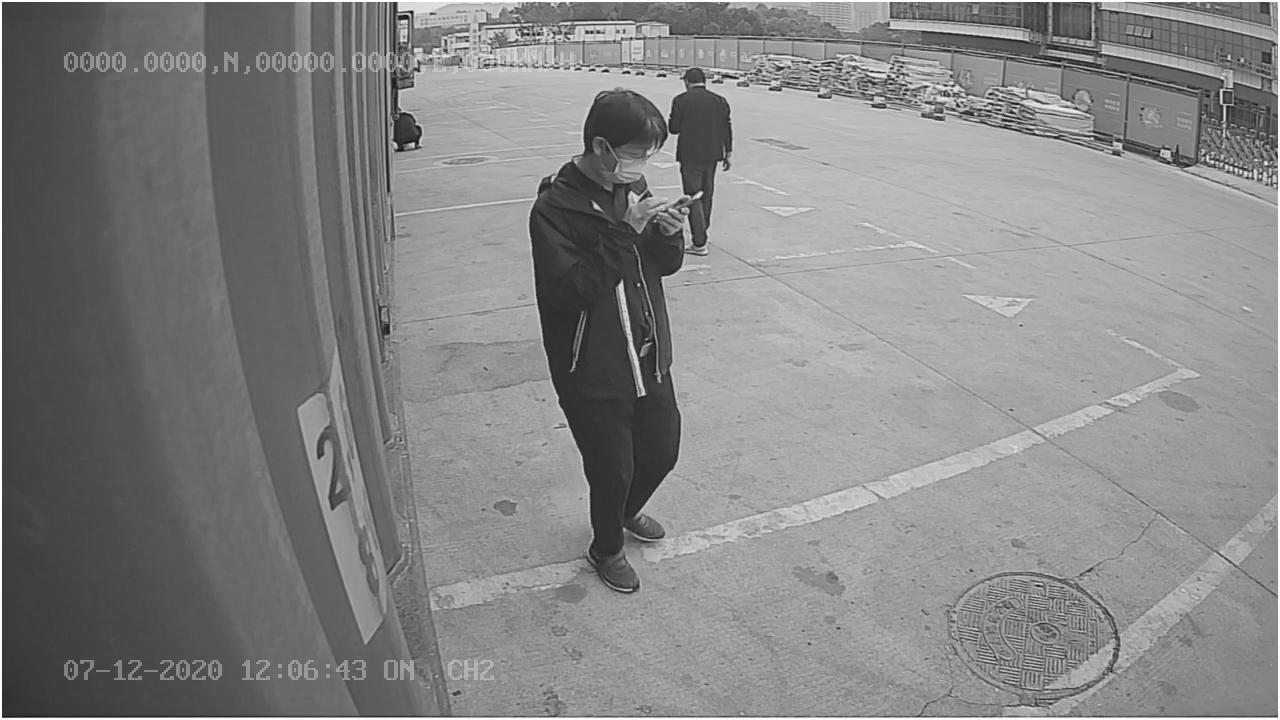person: (530, 90, 690, 591)
